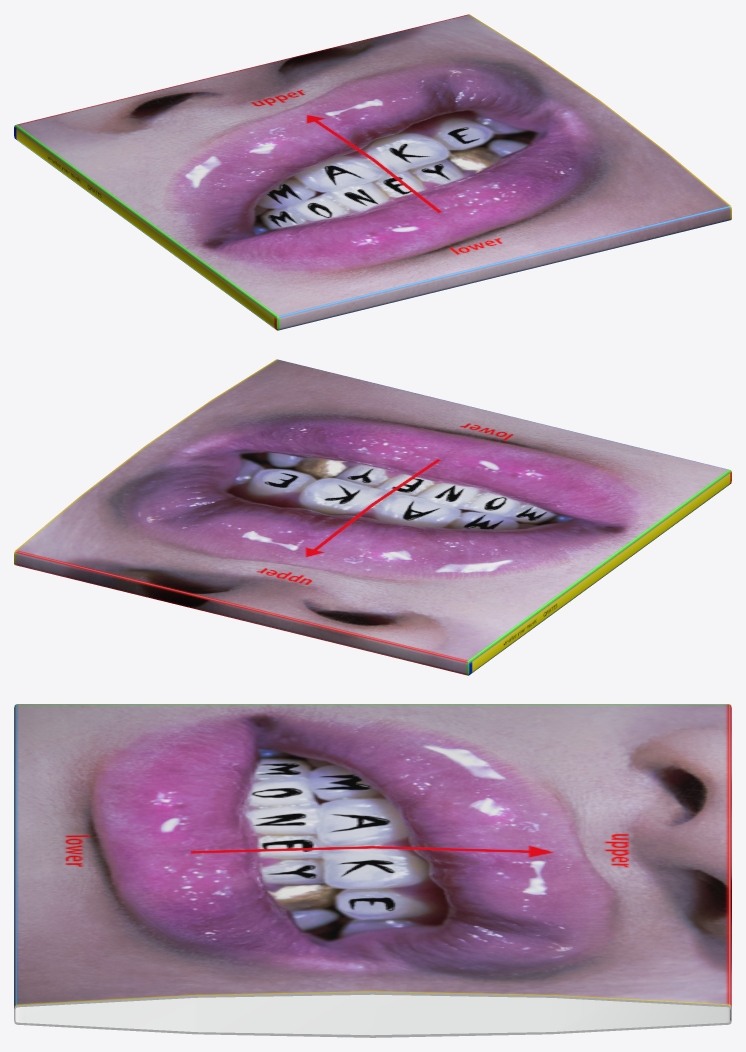
Rendered from sleeve_7_double.dae.
3 renders of one model, top to bottom at view 1: azimuth 30°, elevation 25°; view 2: azimuth 150°, elevation 25°; view 3: azimuth 270°, elevation 25°, orthographic. The views are drawn at different scales.
Visible parts, largest first — view 1: sleeve; view 2: sleeve; view 3: sleeve.
Part boxes in pixels (left/top/right/bottom): sleeve: left=14, top=14, right=731, bottom=330; sleeve: left=14, top=359, right=731, bottom=675; sleeve: left=14, top=704, right=731, bottom=1037.
Size of the model in its own units: 17.94 by 1.27 by 18.01.
Materials: 1 (1 with a texture image).
